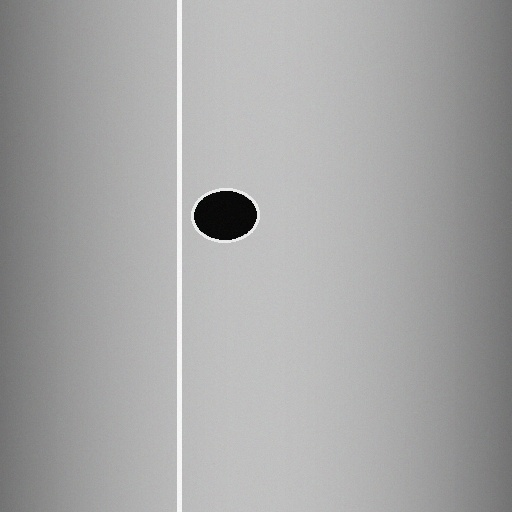hole: (190, 180, 260, 250)
